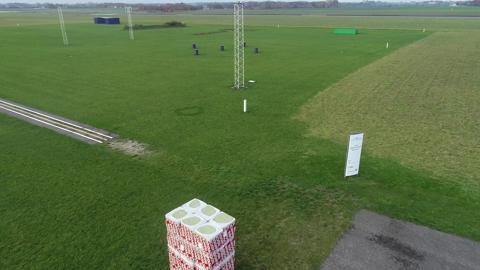RockwoolPallet: (164, 197, 237, 270)
